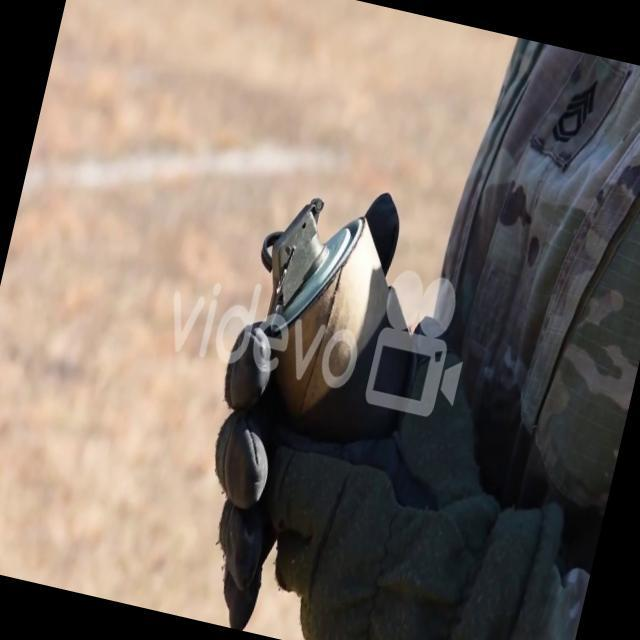grenade: (219, 165, 452, 455)
